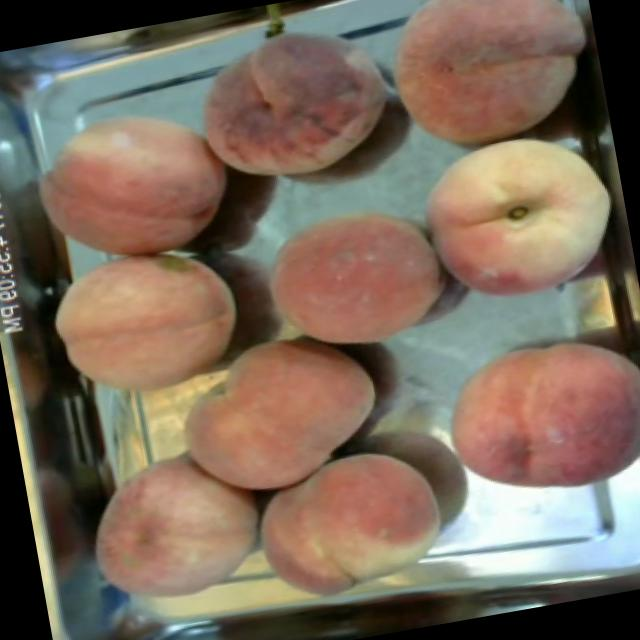Fruit: (170, 0, 426, 210), (156, 310, 404, 522), (230, 420, 468, 636), (396, 117, 639, 328), (247, 176, 472, 378), (425, 313, 640, 521), (354, 0, 611, 173), (63, 432, 286, 630), (15, 86, 249, 274), (36, 236, 260, 421)
